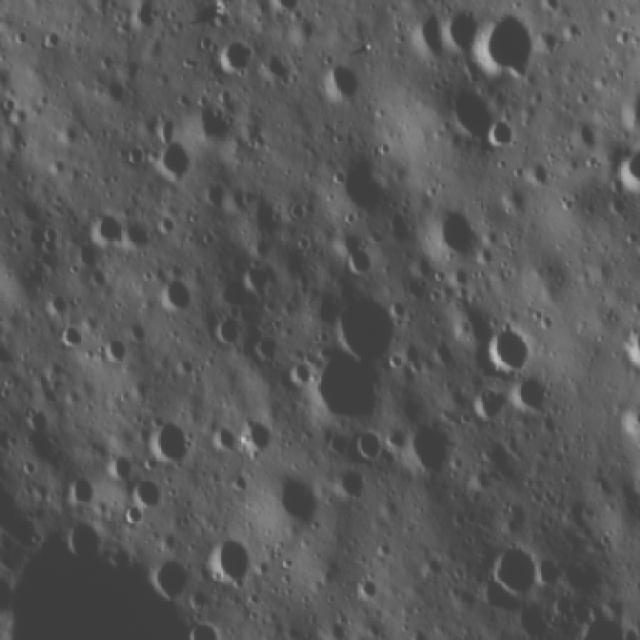crater: (482, 11, 548, 72), (484, 538, 545, 598), (407, 12, 473, 62), (484, 322, 542, 376), (326, 300, 388, 348), (422, 213, 483, 253), (508, 384, 555, 433), (150, 136, 192, 181), (212, 38, 268, 71), (202, 544, 250, 582), (319, 58, 358, 102), (144, 560, 190, 597), (58, 468, 98, 506), (148, 417, 181, 463), (128, 474, 167, 512), (88, 208, 121, 250), (156, 273, 190, 310), (232, 416, 268, 450), (74, 518, 108, 554), (346, 240, 380, 274), (50, 320, 84, 352), (217, 313, 245, 350), (486, 114, 511, 151), (472, 388, 496, 426), (101, 335, 128, 368), (292, 356, 314, 393), (358, 430, 380, 462), (131, 220, 151, 252), (212, 84, 234, 105), (158, 216, 178, 236)
